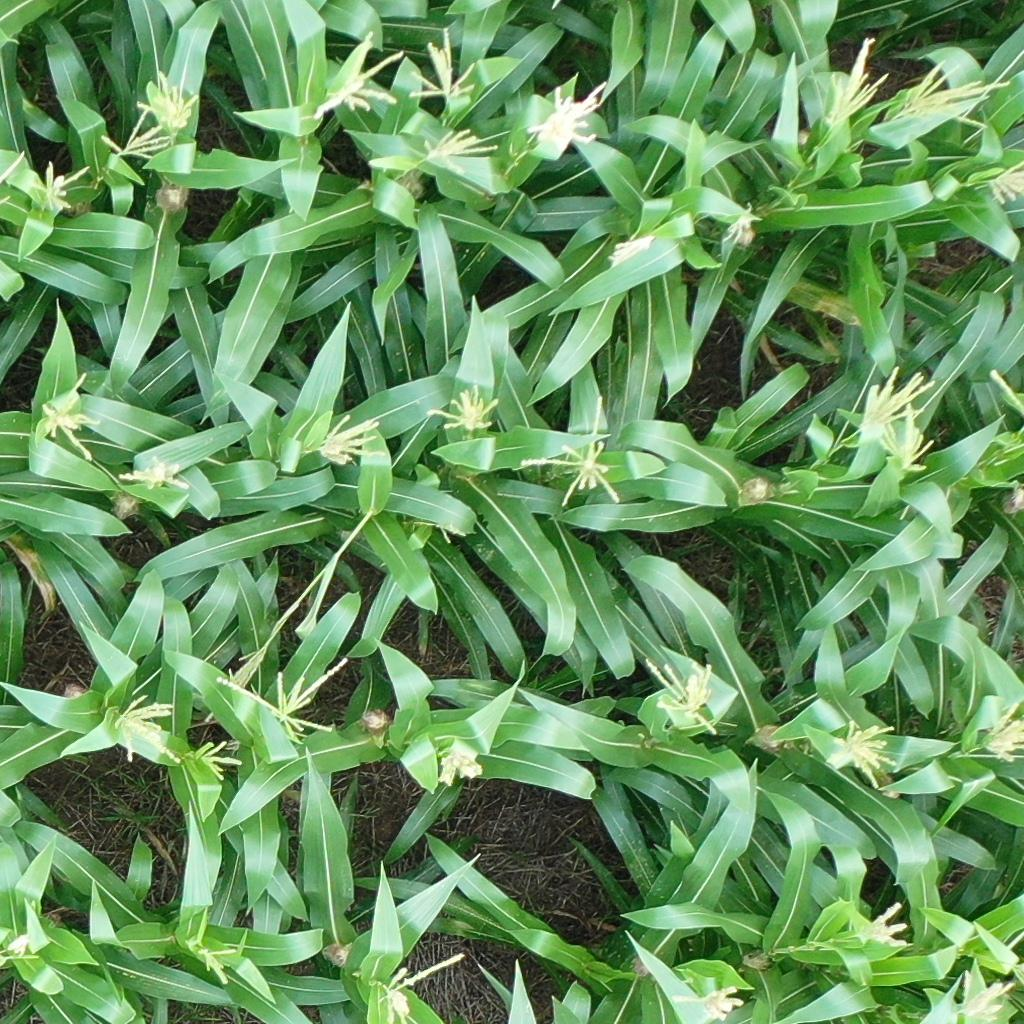Tassel: (210, 655, 351, 740), (520, 394, 625, 507), (900, 58, 1012, 134), (307, 33, 404, 118), (820, 35, 891, 129), (374, 953, 466, 1024), (641, 651, 718, 733), (35, 370, 104, 460), (525, 75, 610, 148), (406, 23, 479, 105), (861, 358, 936, 429), (107, 693, 181, 763), (833, 719, 899, 794), (312, 407, 393, 468), (417, 382, 506, 435), (94, 110, 177, 165), (883, 401, 939, 477), (26, 156, 91, 220), (423, 737, 491, 793), (132, 69, 197, 126), (113, 452, 192, 493), (668, 981, 741, 1024), (855, 898, 914, 949), (959, 975, 1020, 1024), (186, 935, 242, 984), (420, 127, 500, 161), (983, 700, 1024, 765), (194, 737, 249, 782), (982, 158, 1024, 211), (603, 236, 658, 269), (1, 924, 35, 959)
